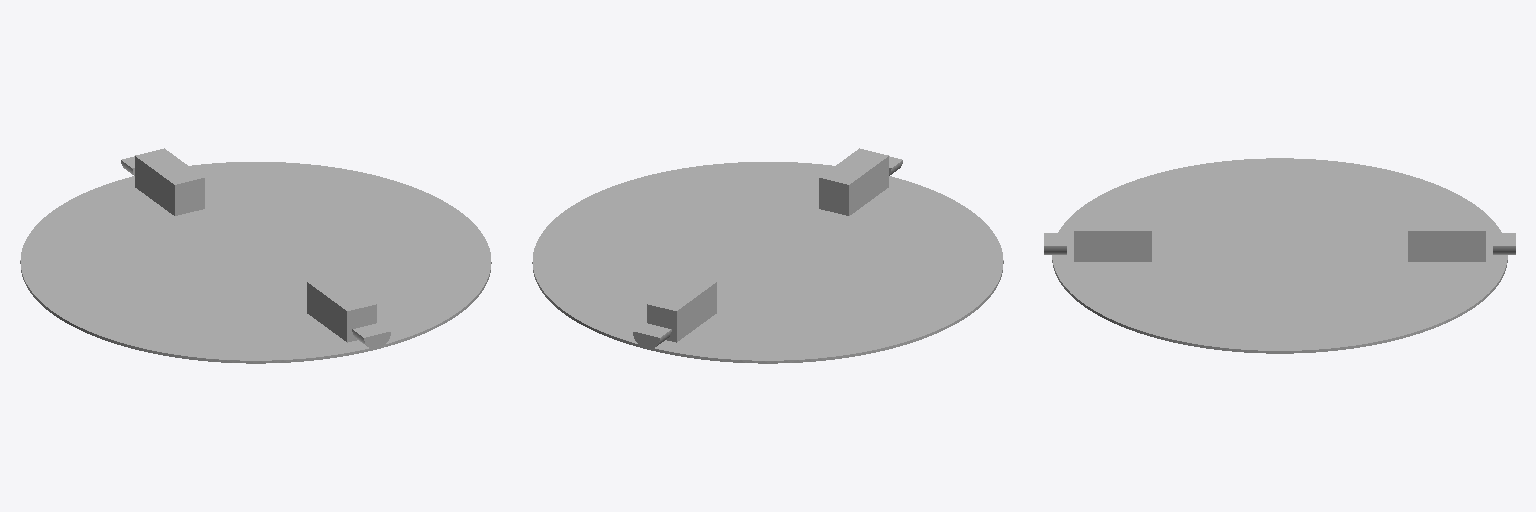
URDF robot description (microrobot):
<?xml version="1.0"?>

<robot name="microrobot">
    <material name="grey">
        <color rgba="0.749 0.749 0.749 1"/>
    </material>

    <link name="dummy_link">
        <!-- [ WARN] [1647026126.424341897]: The root link platform_link has an 
                inertia specified in the URDF, but KDL does not support a root link with
                an inertia.  As a workaround, you can add an extra dummy link to your 
                URDF.  -->
    </link>
    
    <joint name="dl_to_platform_joint" type="fixed">
        <parent link="dummy_link"/>
        <child link="platform_link"/>
    </joint>

    <link name="platform_link">
        <visual>
            <material name="grey"/>
            <geometry>
                <mesh filename="package://microrobot/meshes/colision_mesh/platform_collision_mesh_v3.stl" 
                      scale="0.001 0.001 0.001"/>
            </geometry>
        </visual>

        <collision>
            <geometry>
                <mesh filename="package://microrobot/meshes/colision_mesh/platform_collision_mesh_v3.stl" 
                      scale="0.001 0.001 0.001"/>
            </geometry>
        </collision>

        <inertial>
            <!-- 0.120  -->
            <mass value="0.12002"/>
            <inertia ixx="0.000027589146" 
                    ixy="0.0" ixz="0.0000000000000001775" 
                    iyy="0.000026596997"  
                    iyz="0" 
                    izz="0.000054153556" />
        </inertial>
    </link>

    <link name="left_eccenter_link">
        <visual>
            <material name="grey"/>
            <geometry>
                <mesh filename="package://microrobot/meshes/colision_mesh/eccenter_collision_mesh_v2.stl" 
                    scale="0.001 0.001 0.001"/>
            </geometry>
        </visual>

        <collision>
            <geometry>
                <mesh filename="package://microrobot/meshes/colision_mesh/eccenter_collision_mesh_v2.stl" 
                      scale="0.001 0.001 0.001"/>
            </geometry>
        </collision>

        <inertial>
            <mass value="0.000217"/>
            <inertia ixx="0.000000000223" 
                ixy="0.0" ixz="0.0" 
                iyy="0.000000000278"  
                iyz="0.0" 
                izz="0.00000000038" />
        </inertial>
    </link>

    <joint name="left_eccenter_joint" type="continuous">
        <parent link="platform_link"/>
        <child link="left_eccenter_link"/>
        <origin xyz="0 0.028 0.003"/>
        <dynamics damping="1.0" friction="1.0"/>
        <limit effort="1.0" velocity="1.0" />       
        <axis xyz="0 1 0"/>
    </joint> 

    <link name="right_eccenter_link">
        <visual>
        <material name="grey"/>
            <geometry>
                <mesh filename="package://microrobot/meshes/colision_mesh/eccenter_collision_mesh_v2.stl" 
                    scale="0.001 0.001 0.001"/>
            </geometry>
        </visual>

        <collision>
            <geometry>
                <mesh filename="package://microrobot/meshes/colision_mesh/eccenter_collision_mesh_v2.stl" 
                      scale="0.001 0.001 0.001"/>
            </geometry>
        </collision>

        <inertial>
            <mass value="0.00021"/>
            <inertia ixx="0.000000000239" 
                ixy="0.0" ixz="0.0" 
                iyy="0.000000000271"  
                iyz="-0.000000000002" 
                izz="0.000000000344" />
        </inertial>
    </link>
    
    <joint name="right_eccenter_joint" type="continuous">
        <parent link="platform_link"/>
        <child link="right_eccenter_link"/>
        <origin xyz="0 -0.028 0.003" rpy="0 0 3.14159265" />
        <dynamics damping="1.0" friction="1.0"/>
        <limit effort="1.0" velocity="1.0" /> 
        <axis xyz="0 1 0"/>
    </joint>
</robot>

--- Facts derived from the render (not from the file) ---
Views: 3 orthographic renders of the robot side by side, from view 1: azimuth 30°, elevation 25°; view 2: azimuth 150°, elevation 25°; view 3: azimuth 270°, elevation 25°.
Robot: microrobot — 4 links, 3 joints (2 continuous, 1 fixed); root link dummy_link; default pose: every joint at zero.
Links seen in each view (by area): view 1: platform_link, right_eccenter_link; view 2: platform_link, left_eccenter_link; view 3: platform_link.
Link boxes in pixels (bbox=[...]): platform_link: bbox=[20, 148, 491, 363]; right_eccenter_link: bbox=[352, 323, 390, 348]; platform_link: bbox=[532, 148, 1003, 363]; left_eccenter_link: bbox=[633, 323, 671, 348]; platform_link: bbox=[1052, 158, 1507, 353].
Size in the robot's own frame: 0.06 by 0.062 by 0.0052 metres.
Meshes: 2 distinct files referenced, 3 mesh visuals loaded (2 binary STL).